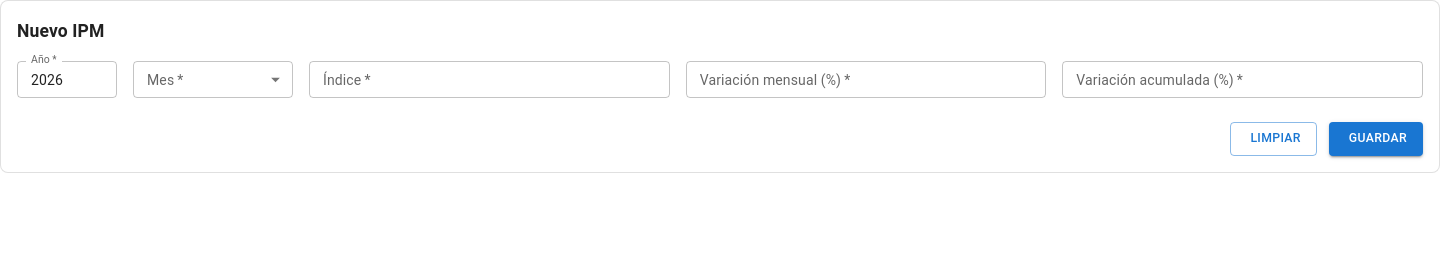
Test case: IPMForm › impide guardar un año fuera del rango permitido
The width and height of the screenshot is (1440, 274).
Replace the text in the number field labelled "Año *" with "1800" at x=67, y=80, box [17,61,117,98]
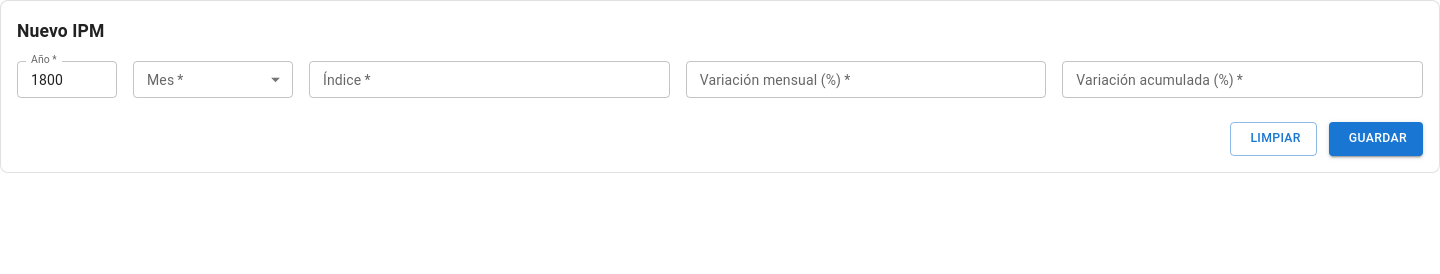
Submit the form named "Guardar"
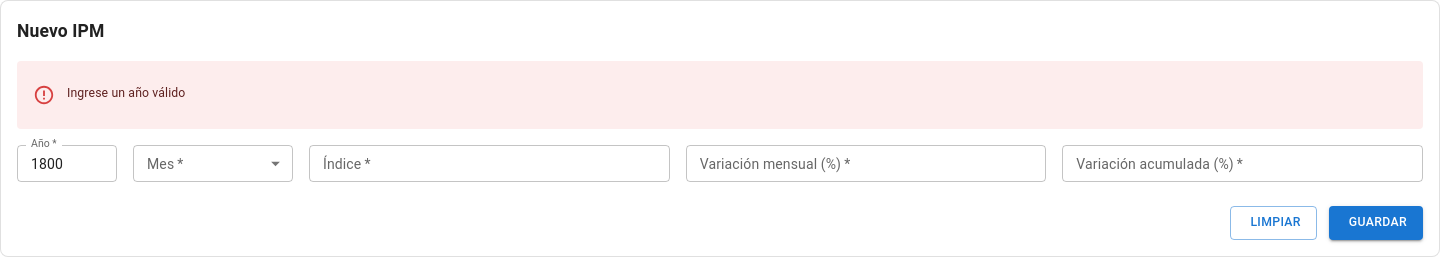
Check: the text "Ingrese un año válido" is shown, box [67,86,186,100]
